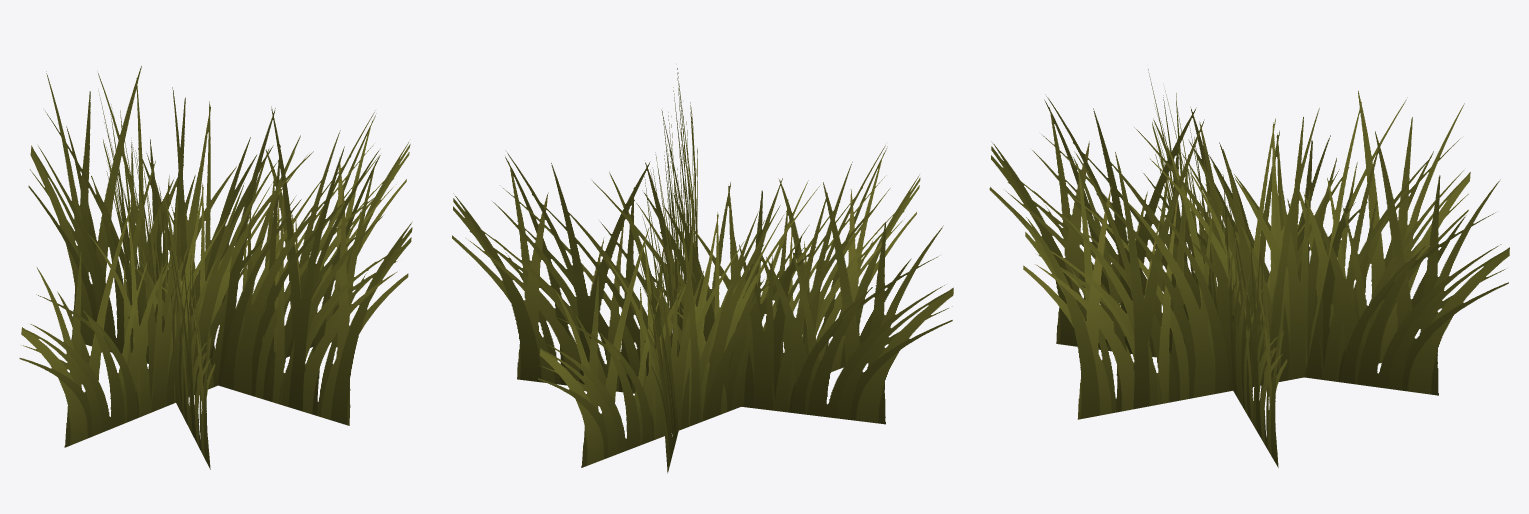
Rendered from alpine_grass_1_burnt2.glb.
3 renders of one model, left to right at view 1: azimuth 30°, elevation 25°; view 2: azimuth 150°, elevation 25°; view 3: azimuth 270°, elevation 25°, orthographic. The views are drawn at different scales.
Parts seen in each view (by area): view 1: alpine_grass_1_burnt2; view 2: alpine_grass_1_burnt2; view 3: alpine_grass_1_burnt2.
Part boxes in pixels (x1,y1,x2,y2): alpine_grass_1_burnt2: [19, 66, 412, 469]; alpine_grass_1_burnt2: [452, 68, 953, 473]; alpine_grass_1_burnt2: [989, 69, 1509, 467].
Size of the model in its own units: 0.5373 by 0.3383 by 0.5177.
1 material, 1 textured.
